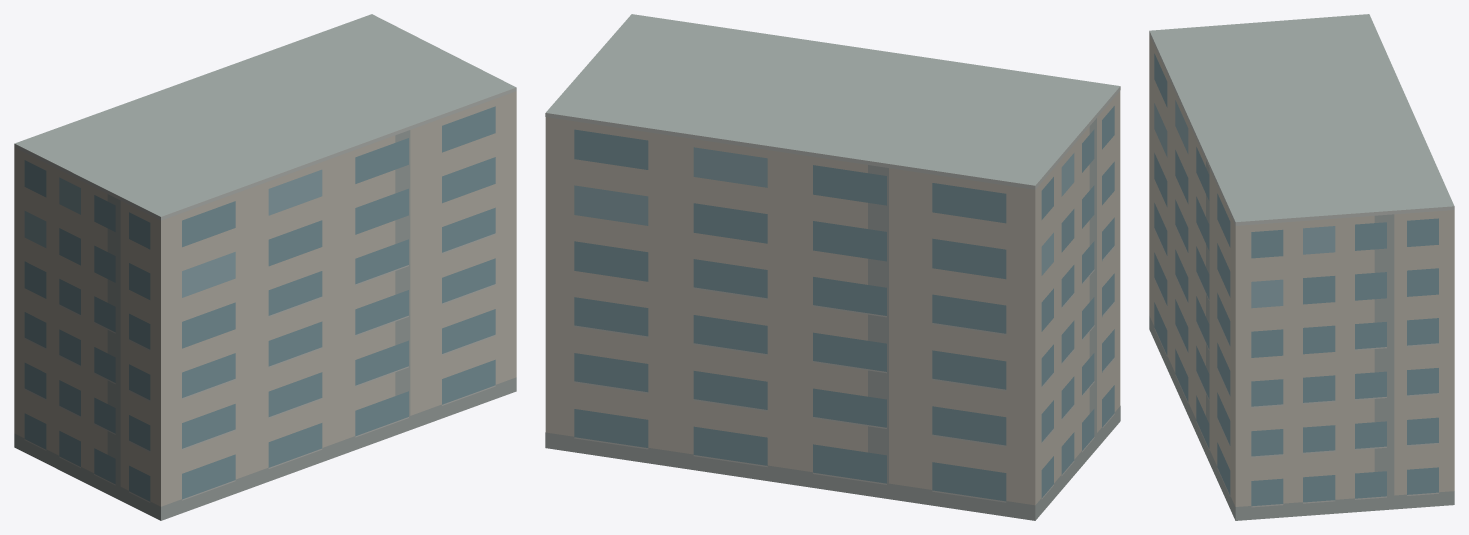
The model's file is survey-upis-32838032.glb.
The picture shows the model from 3 angles, left to right: view 1: azimuth 30°, elevation 25°; view 2: azimuth 150°, elevation 25°; view 3: azimuth 270°, elevation 25°; orthographic projection. The views are drawn at different scales.
Parts seen in each view (by area): view 1: survey-upis-32838032.tmp; view 2: survey-upis-32838032.tmp; view 3: survey-upis-32838032.tmp.
Part boxes in pixels (x1,y1,x2,y2): survey-upis-32838032.tmp: [14, 14, 516, 520]; survey-upis-32838032.tmp: [545, 14, 1120, 520]; survey-upis-32838032.tmp: [1149, 14, 1454, 520].
Size of the model in its own units: 29.75 by 19.9 by 18.43.
